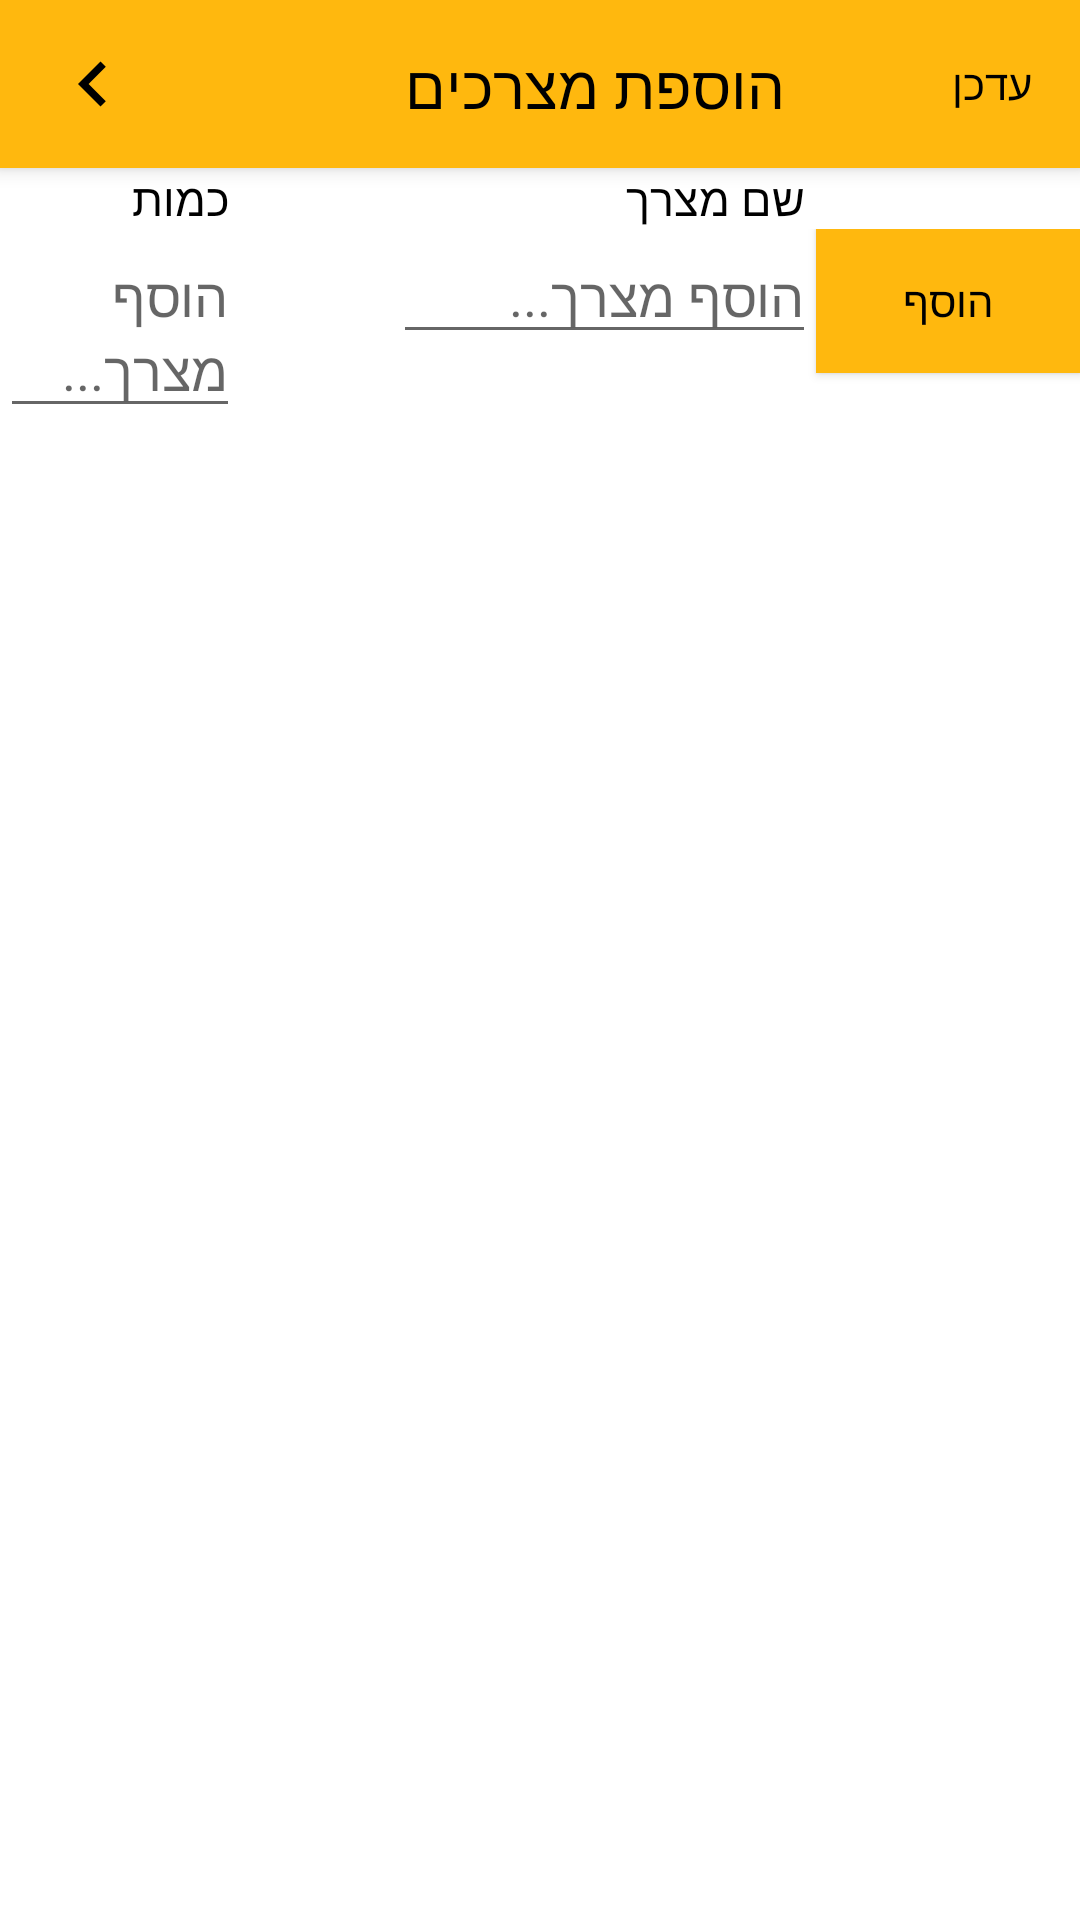

Where to tap for icons on this 1080px×1920px app screen, as (x=x, y=y):
chevron left: (x=92, y=84)
